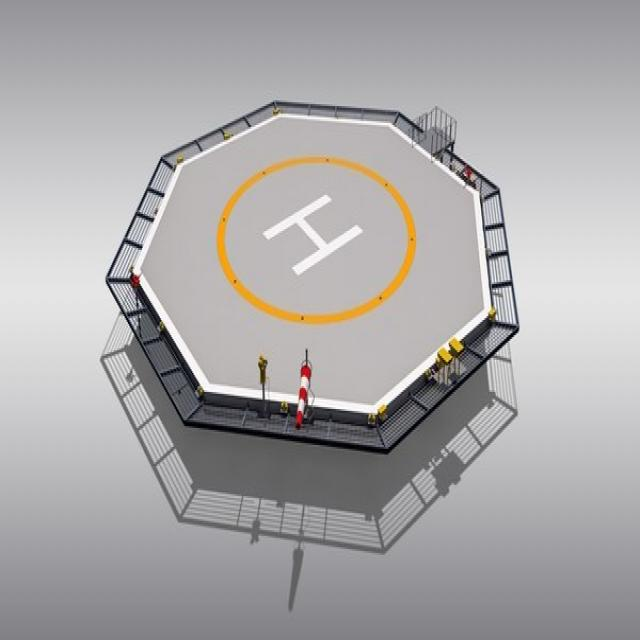helipad: (212, 148, 418, 330)
